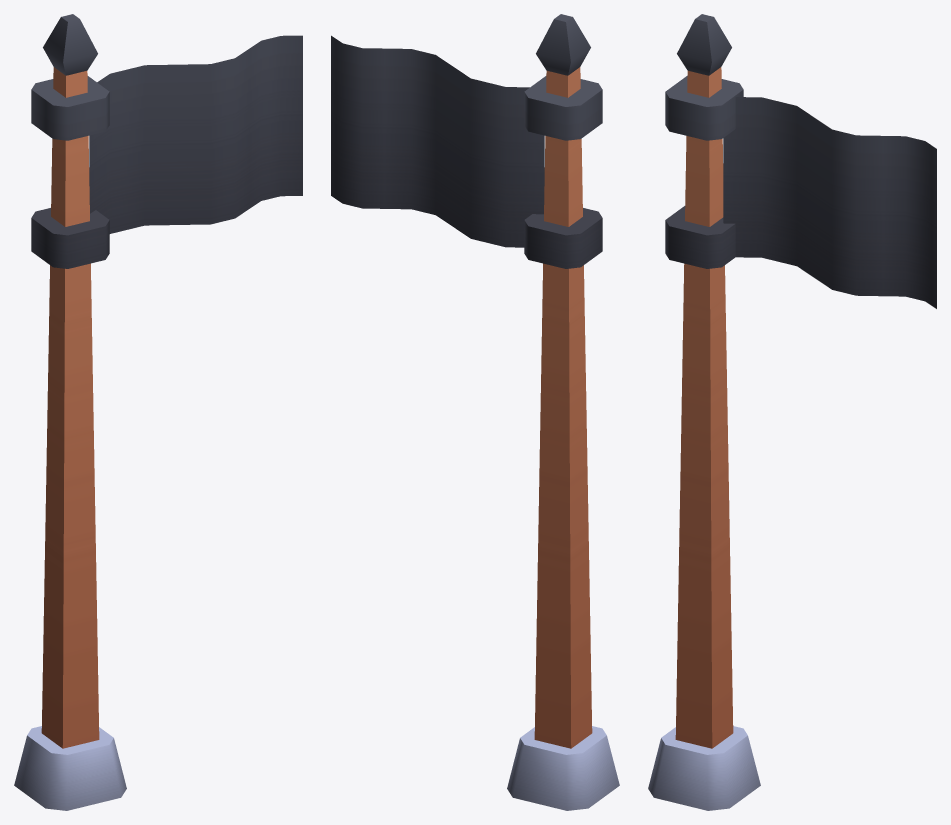
The model's file is flag-pirate-high.gltf.
3 renders of one model, left to right at view 1: azimuth 30°, elevation 25°; view 2: azimuth 150°, elevation 25°; view 3: azimuth 330°, elevation 25°, orthographic.
Visible parts, largest first — view 1: flag-pirate-high; view 2: flag-pirate-high; view 3: flag-pirate-high.
Boxes of the visible parts, box(x1,y1,x2,y2) form: flag-pirate-high: box(14, 14, 302, 810); flag-pirate-high: box(331, 14, 619, 810); flag-pirate-high: box(648, 14, 936, 810).
Bounding box in the file's own units: 1.34 × 3.6 × 0.3989.
Materials: 1 (1 with a texture image).
